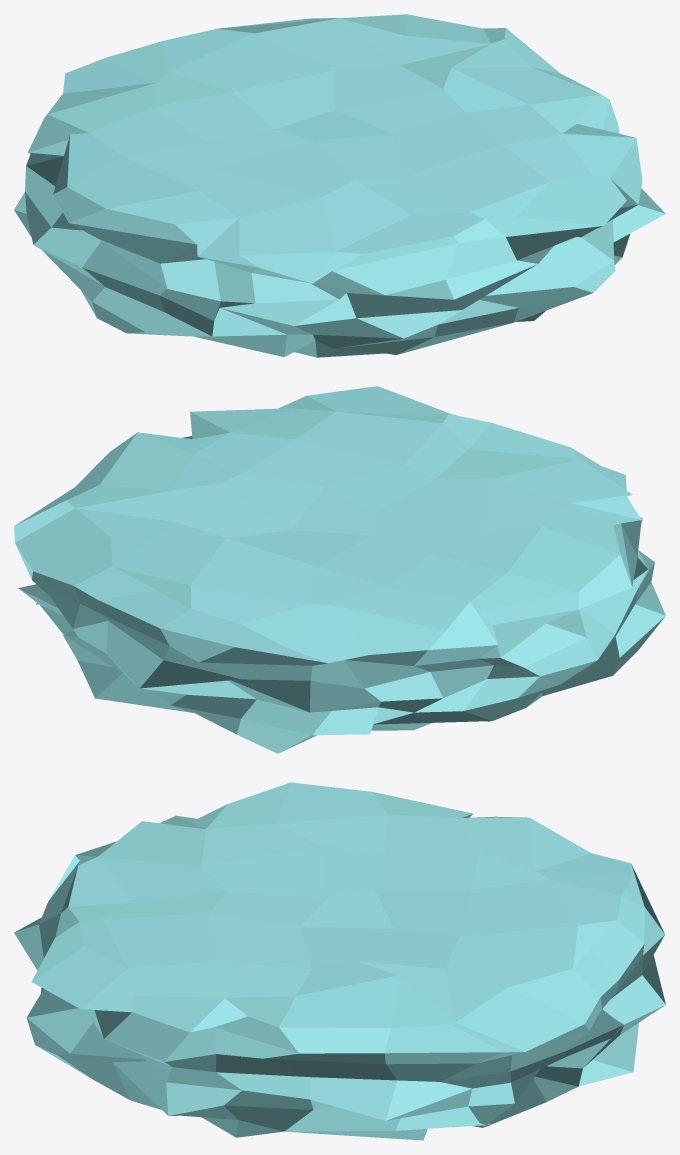
File: YetiBend.fbx
3 renders of one model, top to bottom at view 1: azimuth 30°, elevation 25°; view 2: azimuth 150°, elevation 25°; view 3: azimuth 270°, elevation 25°, orthographic. The views are drawn at different scales.
Visible parts, largest first — view 1: Cylinder.002; view 2: Cylinder.002; view 3: Cylinder.002.
Part boxes in pixels (left/top/right/bottom): Cylinder.002: left=14, top=14, right=665, bottom=357; Cylinder.002: left=14, top=386, right=665, bottom=753; Cylinder.002: left=14, top=782, right=665, bottom=1140.
Bounding box in the file's own units: 160 × 34 × 157.
